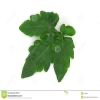Tomato leaf: (21, 30, 60, 82), (24, 8, 67, 41), (49, 34, 75, 86)
